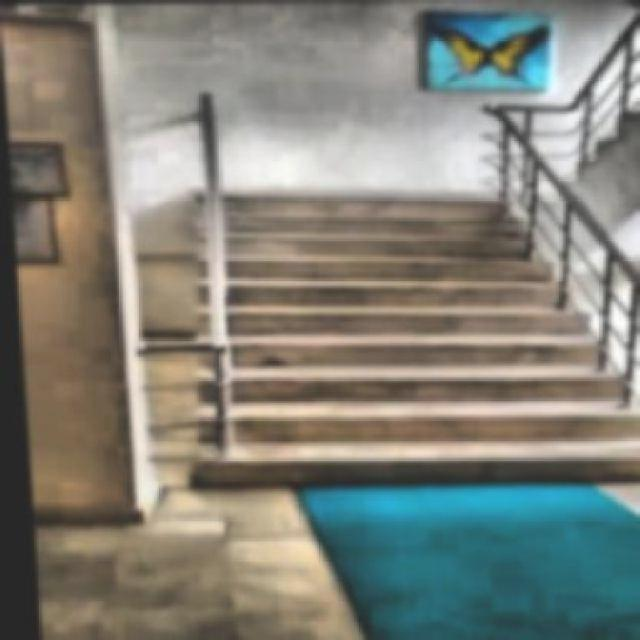stair: (148, 176, 640, 492)
